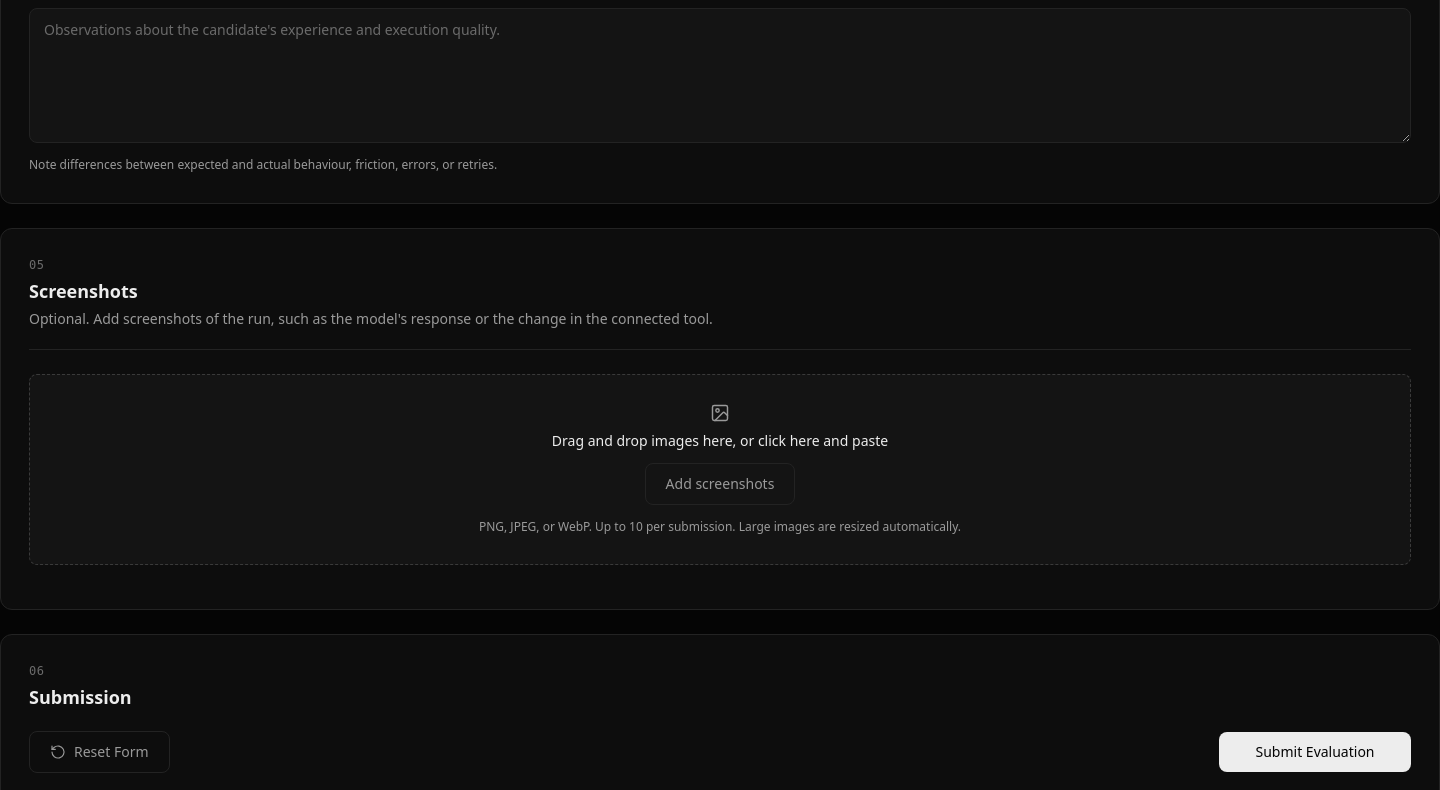
Test case: EvaluationForm › shows required-field errors and does not submit an empty form
The width and height of the screenshot is (1440, 790).
(page scrolled)
Click the button "Submit Evaluation": [1315, 752] box x1=1219 y1=732 x2=1411 y2=772
(page scrolled)
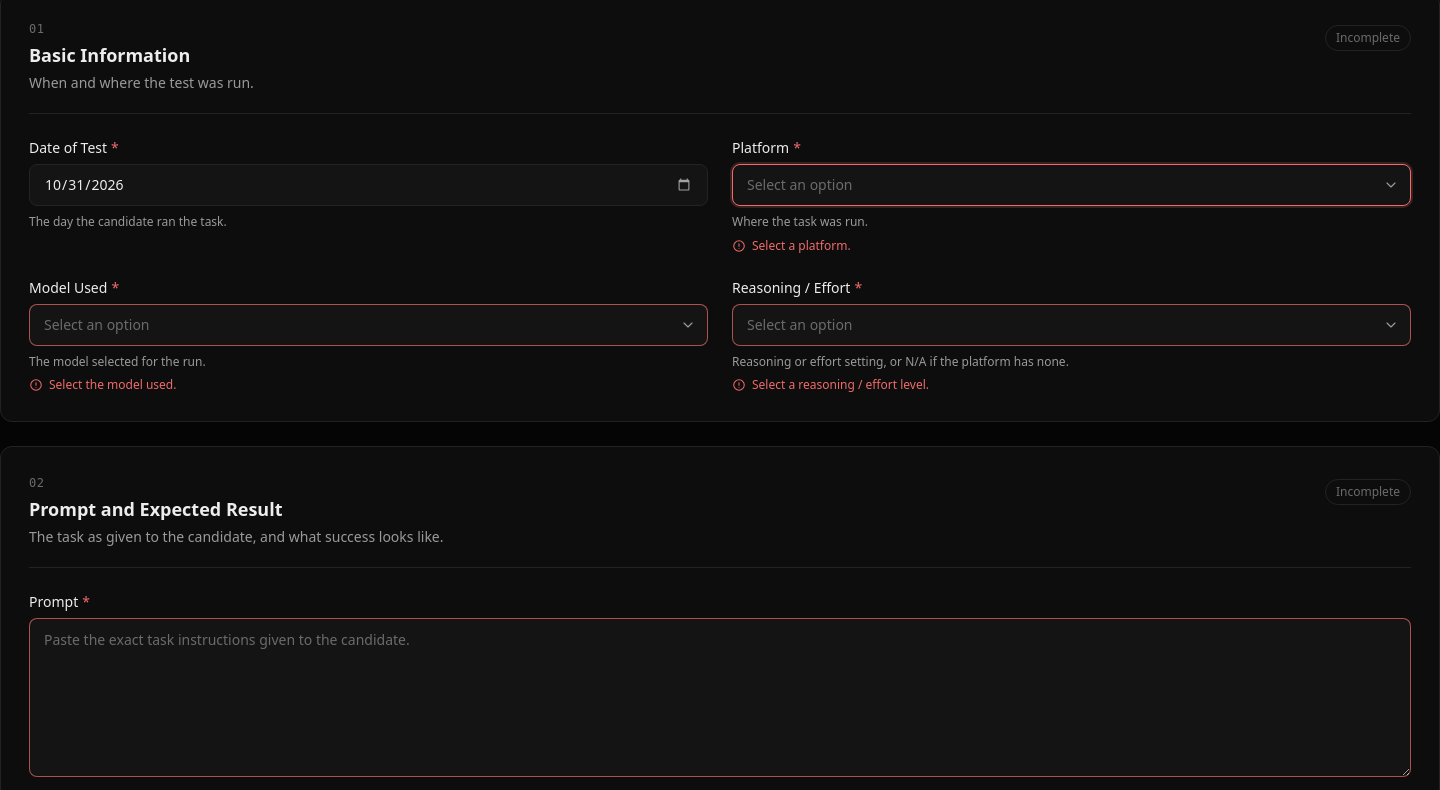
Now the text "Select a platform." is shown, box x1=732 y1=236 x2=851 y2=254
